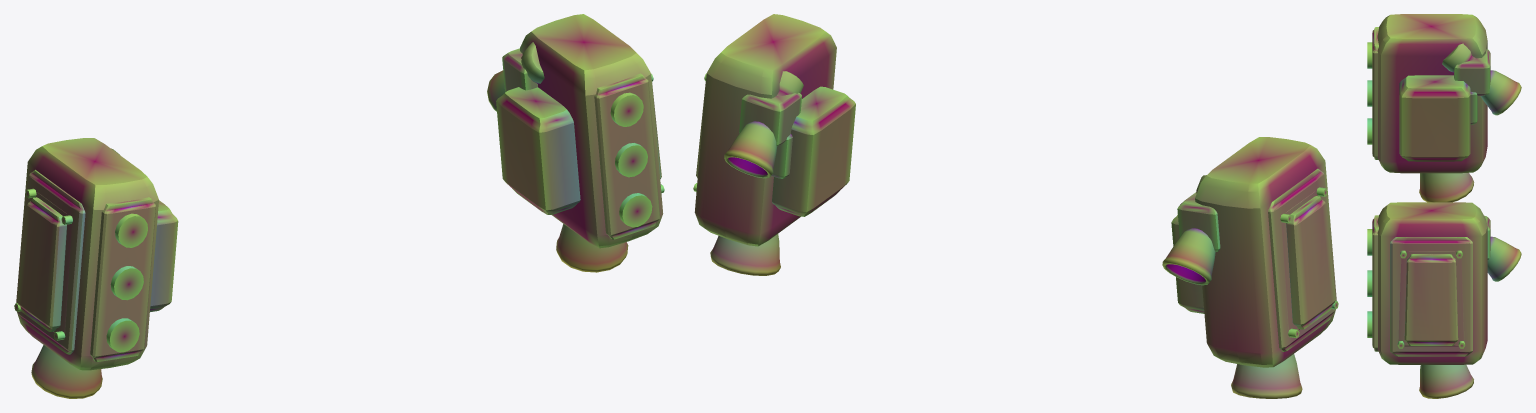
File: llm_gen_leg_thrusters_065_2cb094.glb
The picture shows the model from 3 angles, left to right: view 1: azimuth 30°, elevation 25°; view 2: azimuth 150°, elevation 25°; view 3: azimuth 270°, elevation 25°; orthographic projection. The views are drawn at different scales.
Visible parts, largest first — view 1: leg_missile_hull_0_crimson_gloss_r, leg_missile_hull_0_crimson_gloss_l, adapter_calf_clamp_r, leg_pod_armor_cover_6_era_block_l, adapter_sub_missile_bezel_dark_1_adapter_dark_l, adapter_sub_missile_bezel_dark_1_adapter_dark_r, adapter_sub_side_frame_dark_5_adapter_dark_l, leg_ankle_bell_7_vernier_bell_vernier_l, adapter_calf_clamp_l, leg_ankle_bell_7_vernier_bell_vernier_r, adapter_leg_mount_pod_dark_8_adapter_dark_r, leg_cell_bot_4_adapter_dark_r (+6 smaller); view 2: leg_missile_hull_0_crimson_gloss_l, leg_missile_hull_0_crimson_gloss_r, adapter_calf_clamp_r, leg_pod_armor_cover_6_era_block_l, adapter_sub_side_frame_dark_5_adapter_dark_l, leg_ankle_bell_7_vernier_bell_vernier_l, addon_leg_bell_9_vernier_bell_vernier_r, leg_ankle_bell_7_vernier_bell_vernier_r, addon_leg_bell_9_vernier_bell_vernier_l, adapter_leg_mount_pod_dark_8_adapter_dark_r, adapter_leg_mount_pod_dark_8_adapter_dark_l, adapter_calf_clamp_l (+1 smaller); view 3: leg_missile_hull_0_crimson_gloss_l, leg_missile_hull_0_crimson_gloss_r, leg_pod_armor_cover_6_era_block_r, adapter_calf_clamp_l, adapter_sub_side_frame_dark_5_adapter_dark_r, leg_ankle_bell_7_vernier_bell_vernier_r, leg_ankle_bell_7_vernier_bell_vernier_l, adapter_leg_mount_pod_dark_8_adapter_dark_l, addon_leg_bell_9_vernier_bell_vernier_l, addon_leg_bell_9_vernier_bell_vernier_r, adapter_sub_missile_bezel_dark_1_adapter_dark_r, adapter_sub_missile_bezel_dark_1_adapter_dark_l (+9 smaller).
Boxes of the visible parts, x1,y1,x2,y2 form: leg_missile_hull_0_crimson_gloss_r: [520, 14, 663, 248]; leg_missile_hull_0_crimson_gloss_l: [16, 138, 158, 370]; adapter_calf_clamp_r: [496, 87, 580, 214]; leg_pod_armor_cover_6_era_block_l: [14, 188, 72, 340]; adapter_sub_missile_bezel_dark_1_adapter_dark_l: [90, 197, 155, 361]; adapter_sub_missile_bezel_dark_1_adapter_dark_r: [594, 73, 660, 239]; adapter_sub_side_frame_dark_5_adapter_dark_l: [17, 169, 85, 354]; leg_ankle_bell_7_vernier_bell_vernier_l: [31, 345, 102, 398]; adapter_calf_clamp_l: [150, 200, 178, 311]; leg_ankle_bell_7_vernier_bell_vernier_r: [556, 224, 628, 272]; adapter_leg_mount_pod_dark_8_adapter_dark_r: [502, 48, 537, 91]; leg_cell_bot_4_adapter_dark_r: [619, 193, 652, 227]; leg_missile_hull_0_crimson_gloss_l: [1195, 137, 1336, 367]; leg_missile_hull_0_crimson_gloss_r: [694, 14, 836, 246]; adapter_calf_clamp_r: [772, 86, 855, 216]; leg_pod_armor_cover_6_era_block_l: [1280, 187, 1338, 337]; adapter_sub_side_frame_dark_5_adapter_dark_l: [1268, 168, 1335, 351]; leg_ankle_bell_7_vernier_bell_vernier_l: [1231, 354, 1302, 398]; addon_leg_bell_9_vernier_bell_vernier_r: [724, 121, 777, 178]; leg_ankle_bell_7_vernier_bell_vernier_r: [710, 234, 780, 275]; addon_leg_bell_9_vernier_bell_vernier_l: [1162, 228, 1215, 285]; adapter_leg_mount_pod_dark_8_adapter_dark_r: [739, 93, 801, 146]; adapter_leg_mount_pod_dark_8_adapter_dark_l: [1177, 192, 1220, 251]; adapter_calf_clamp_l: [1171, 214, 1204, 313]; leg_missile_hull_0_crimson_gloss_l: [1377, 14, 1487, 173]; leg_missile_hull_0_crimson_gloss_r: [1377, 202, 1487, 364]; leg_pod_armor_cover_6_era_block_r: [1397, 250, 1465, 348]; adapter_calf_clamp_l: [1399, 75, 1470, 161]; adapter_sub_side_frame_dark_5_adapter_dark_r: [1390, 237, 1472, 356]; leg_ankle_bell_7_vernier_bell_vernier_r: [1419, 364, 1473, 398]; leg_ankle_bell_7_vernier_bell_vernier_l: [1419, 172, 1474, 202]; adapter_leg_mount_pod_dark_8_adapter_dark_l: [1454, 49, 1490, 95]; addon_leg_bell_9_vernier_bell_vernier_l: [1480, 70, 1521, 115]; addon_leg_bell_9_vernier_bell_vernier_r: [1487, 236, 1521, 281]; adapter_sub_missile_bezel_dark_1_adapter_dark_r: [1372, 215, 1378, 351]; adapter_sub_missile_bezel_dark_1_adapter_dark_l: [1372, 27, 1378, 159].
Size of the model in its own units: 84.69 by 30.45 by 23.91.
